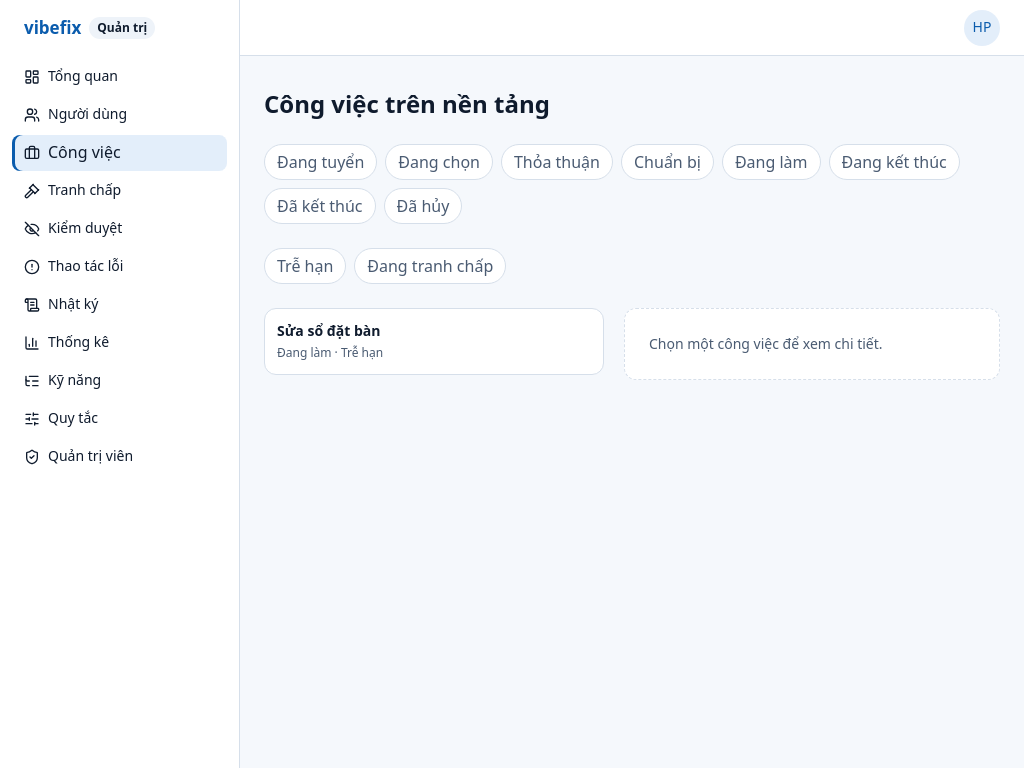
Test: ADM-5 and ADM-8 (FR-63, FR-68) › filters overdue Jobs, shows the Milestones, and opens the Job’s Audit Log
The image size is (1024, 768).
Click the button "Trễ hạn" at (305, 266), box x1=264 y1=248 x2=346 y2=284
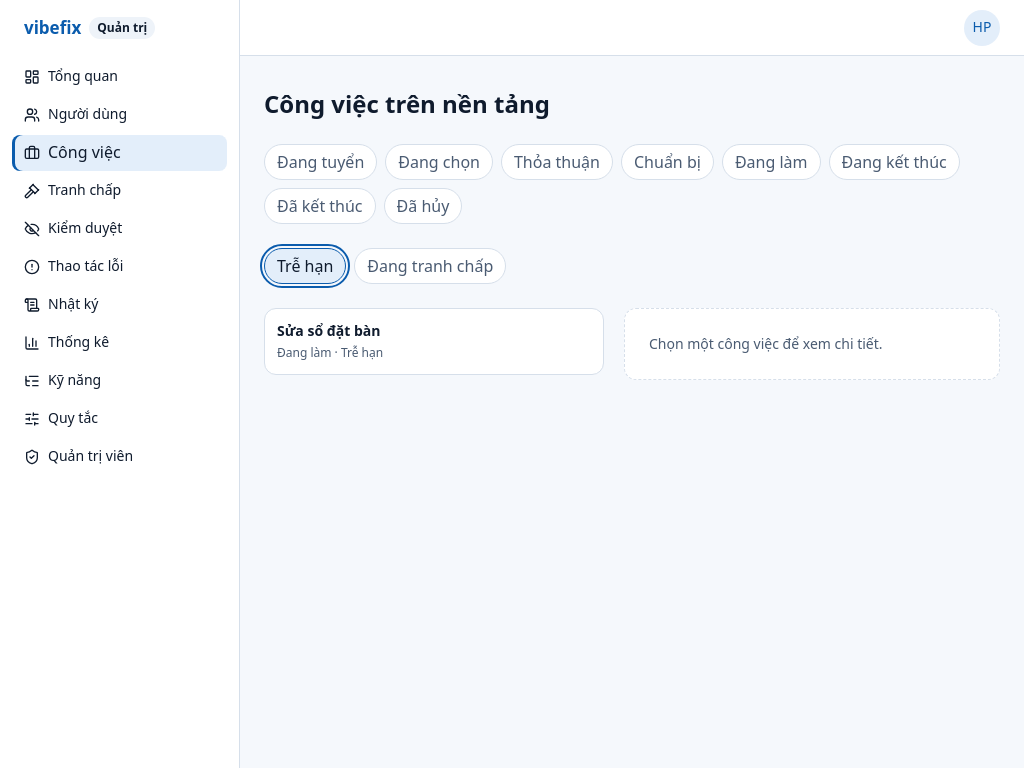
Click the link "Sửa sổ đặt bàn Đang làm · Trễ hạn" at (330, 341), box x1=277 y1=321 x2=383 y2=361
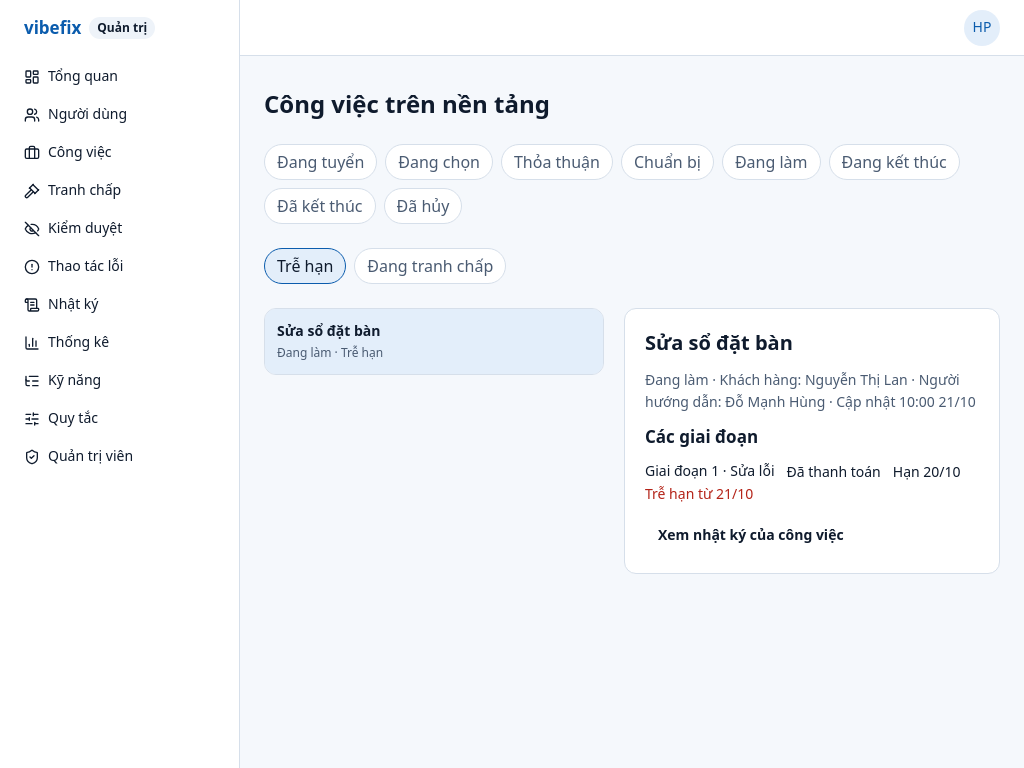
Expected: the text "Giai đoạn 1 · Sửa lỗi" is shown, x1=645 y1=461 x2=774 y2=483
Expected: the text "Trễ hạn từ 21/10" is shown, x1=645 y1=483 x2=753 y2=505
Click the link "Xem nhật ký của công việc" at (751, 535), box x1=645 y1=517 x2=857 y2=553
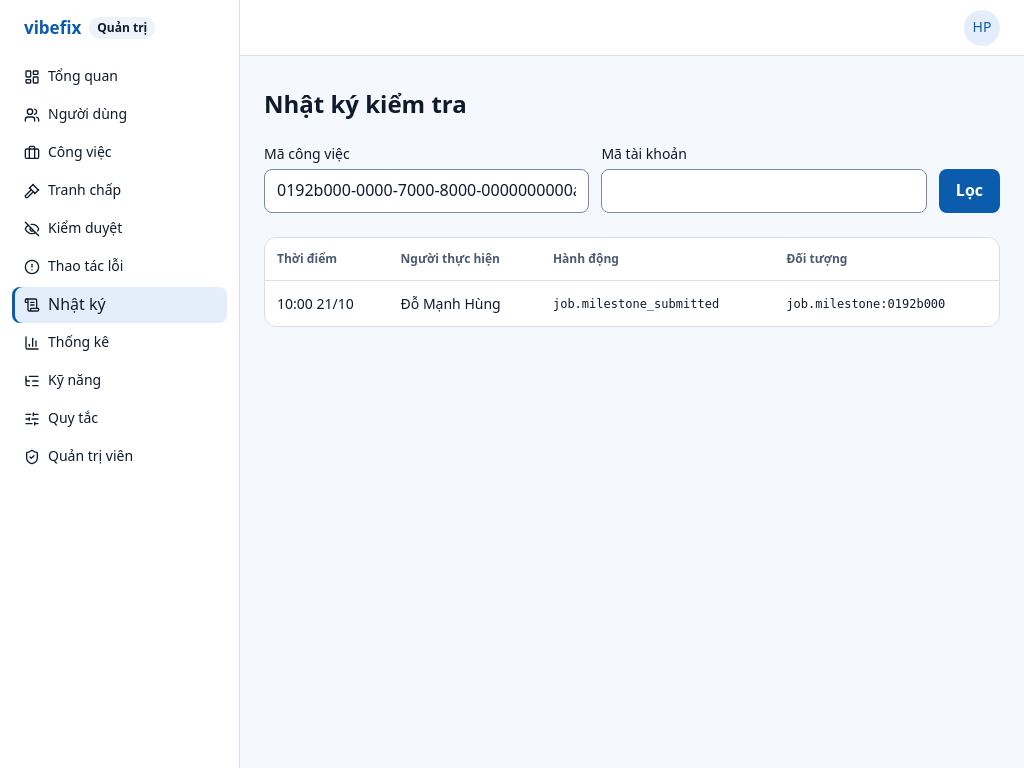
Expected: the text "Đỗ Mạnh Hùng" is shown, x1=389 y1=281 x2=541 y2=326
Expected: the text "job.milestone_submitted" is shown, x1=541 y1=281 x2=774 y2=326
